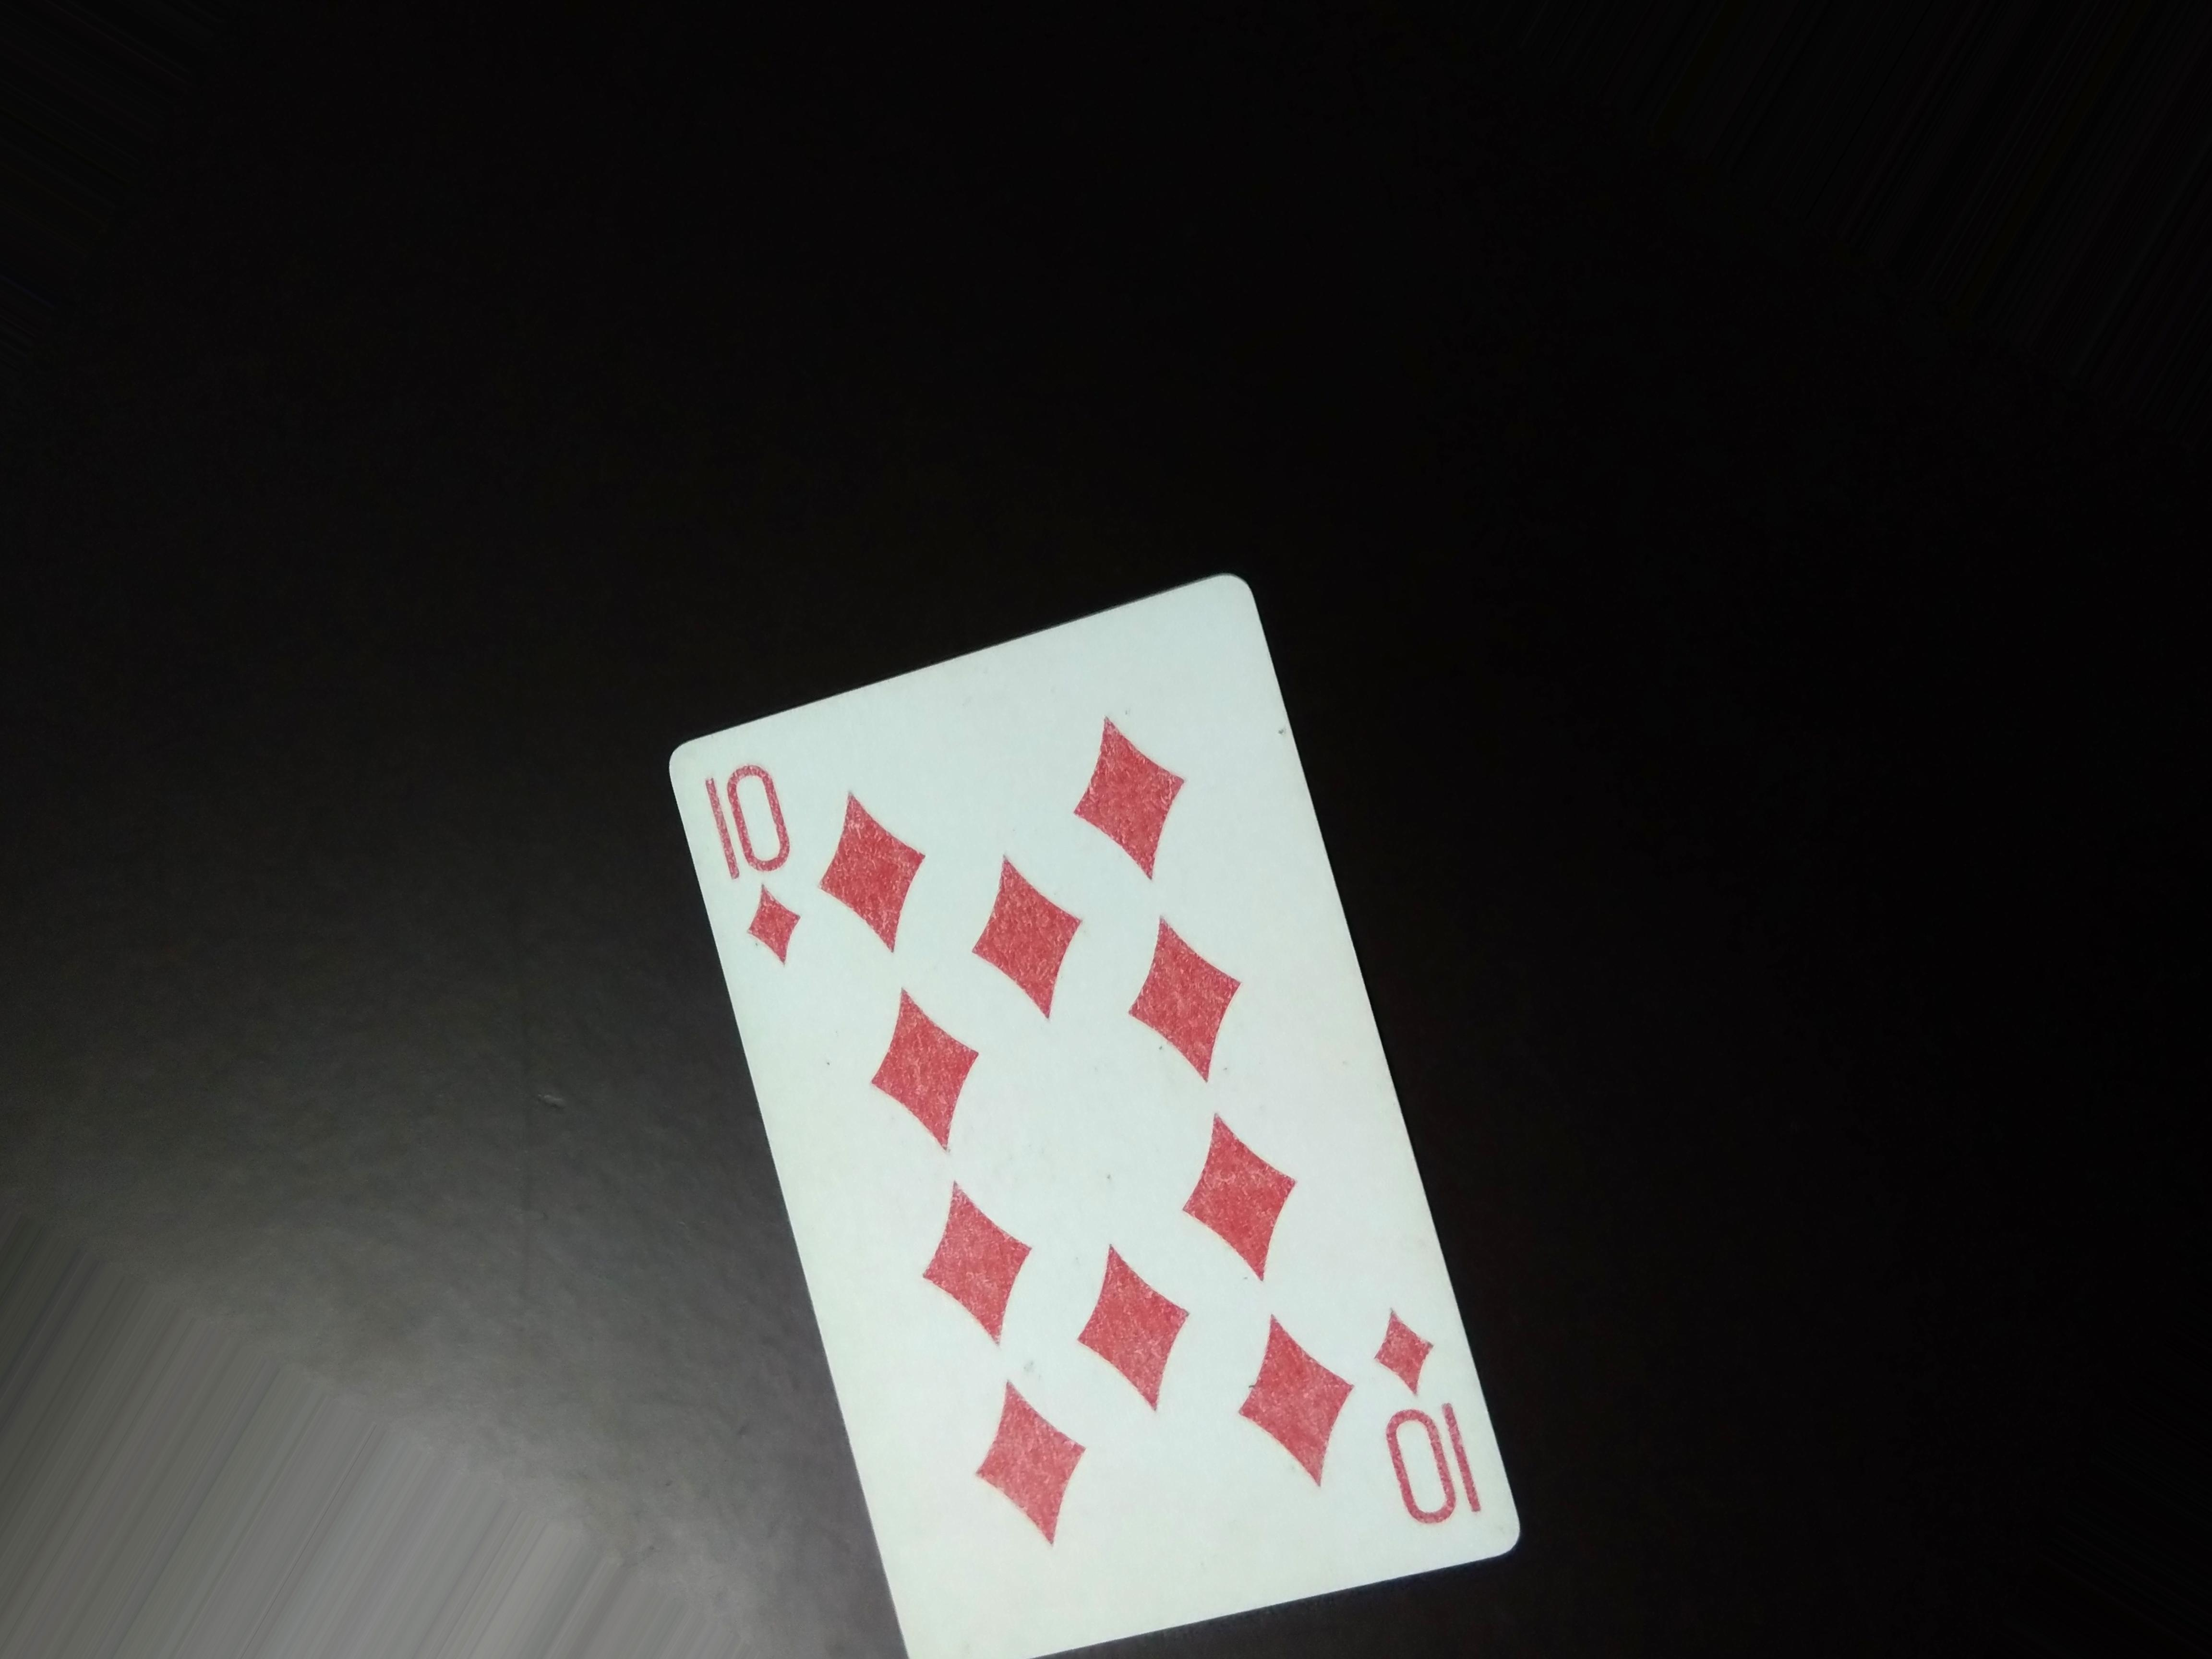10D: (697, 746, 805, 986)
